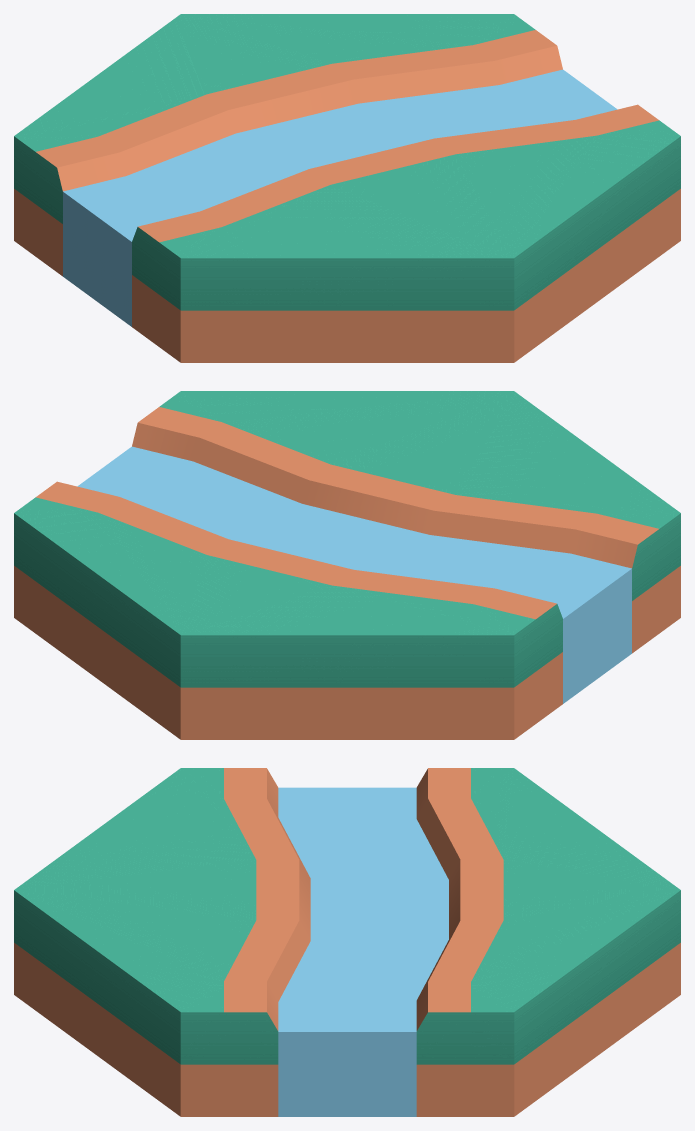
Rendered from river_straight.glb.
The picture shows the model from 3 angles, top to bottom: view 1: azimuth 30°, elevation 25°; view 2: azimuth 150°, elevation 25°; view 3: azimuth 270°, elevation 25°; orthographic projection.
Visible parts, largest first — view 1: river-straight; view 2: river-straight; view 3: river-straight.
Boxes of the visible parts, x1,y1,x2,y2 form: river-straight: (14,14,680,362); river-straight: (14,391,680,739); river-straight: (14,768,680,1116).
Size of the model in its own units: 1 by 0.2 by 1.15.
Materials: 1 (1 with a texture image).
